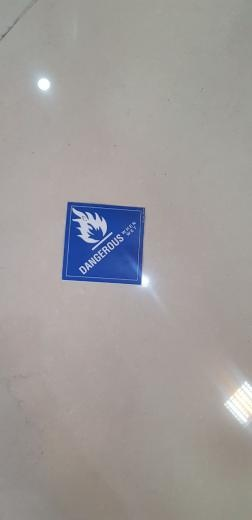Dangerous when wet: (61, 202, 145, 285)
